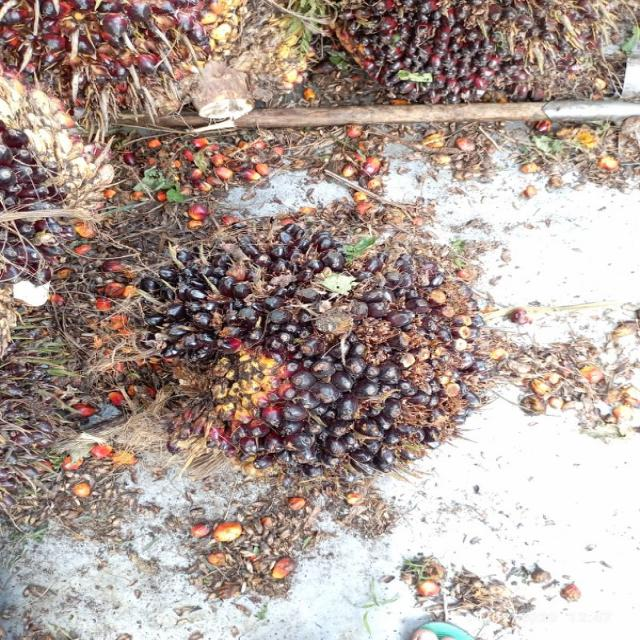fraksi 1: (127, 212, 490, 497)
